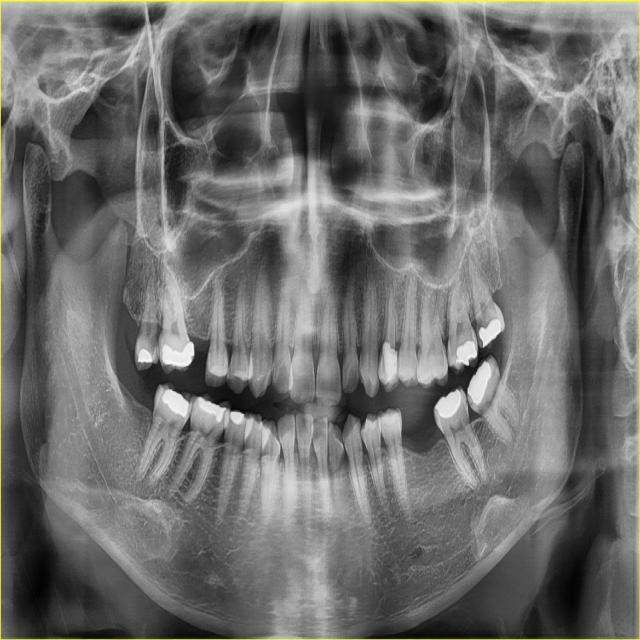74: (387, 296, 392, 340)
NucleOSS Implant: (464, 358, 496, 405), (158, 385, 194, 420), (159, 340, 198, 371), (431, 389, 468, 421), (473, 317, 507, 348), (193, 396, 227, 423), (454, 338, 478, 366), (228, 407, 247, 427), (137, 347, 154, 366)
Sterngold Implant: (475, 315, 487, 346), (148, 331, 158, 353), (184, 405, 193, 420), (412, 360, 417, 381), (463, 395, 469, 409), (468, 396, 474, 409)
Straumann Implant: (382, 342, 398, 391)
